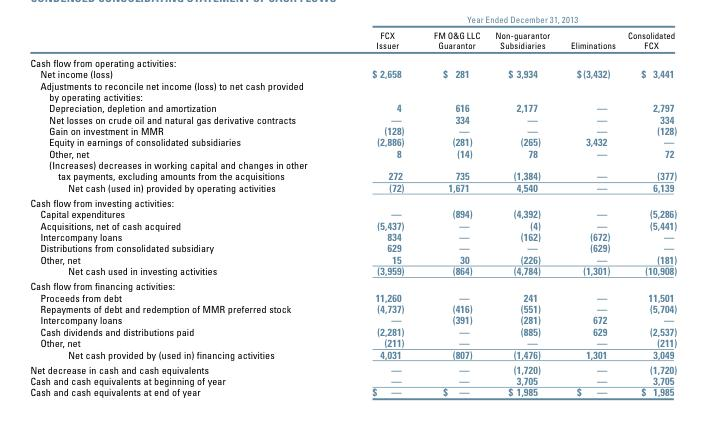table: (29, 29, 676, 397)
table column: (29, 29, 339, 397), (339, 29, 418, 397), (486, 29, 559, 397), (418, 29, 486, 397), (559, 29, 620, 397), (620, 29, 676, 397)
table column header: (29, 29, 676, 53)
table projected row header: (29, 79, 676, 101), (29, 53, 676, 67), (29, 194, 676, 207), (29, 278, 676, 291)
table row: (29, 29, 676, 53), (29, 158, 676, 181), (29, 79, 676, 101), (29, 53, 676, 67), (29, 264, 676, 278), (29, 347, 676, 361), (29, 181, 676, 194), (29, 194, 676, 207), (29, 278, 676, 291), (29, 361, 676, 374), (29, 67, 676, 79), (29, 101, 676, 113), (29, 135, 676, 147), (29, 207, 676, 219), (29, 241, 676, 253), (29, 313, 676, 325), (29, 385, 676, 397), (29, 113, 676, 124), (29, 124, 676, 135), (29, 147, 676, 158), (29, 219, 676, 230), (29, 230, 676, 241), (29, 253, 676, 264), (29, 291, 676, 302), (29, 302, 676, 313), (29, 325, 676, 336), (29, 336, 676, 347), (29, 374, 676, 385)
